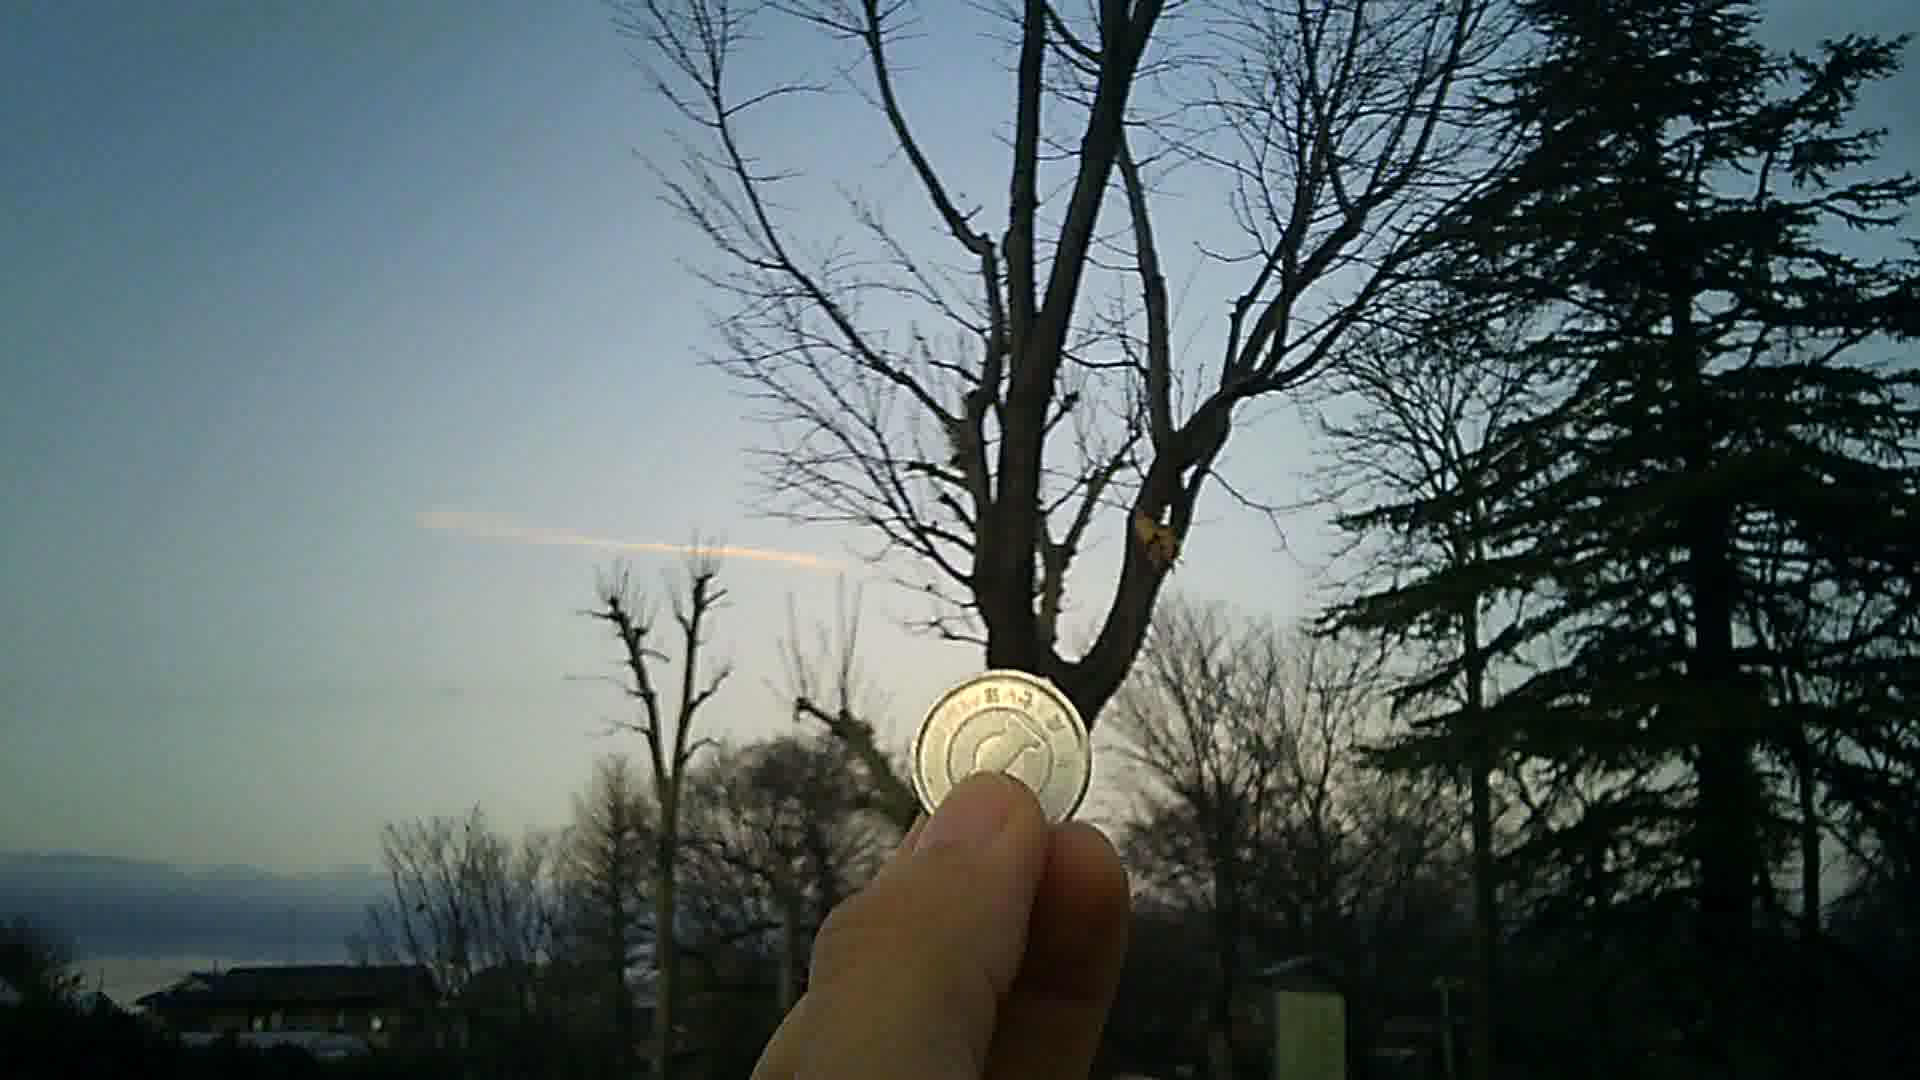1 Yen: (915, 659, 1098, 839)
